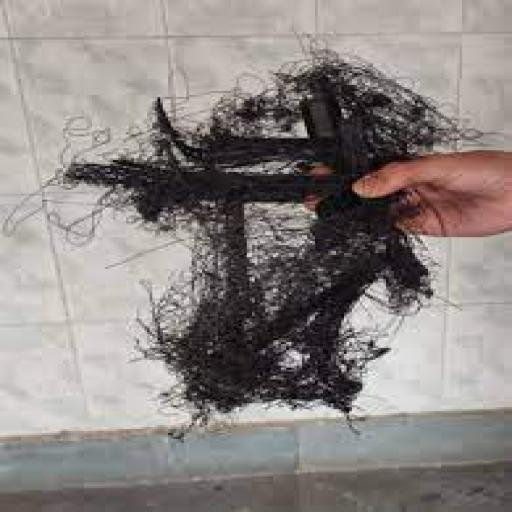spaghetti: (33, 45, 413, 418)
